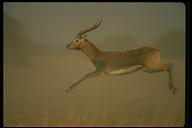antelope: (63, 16, 180, 97)
grass: (16, 96, 165, 124)
